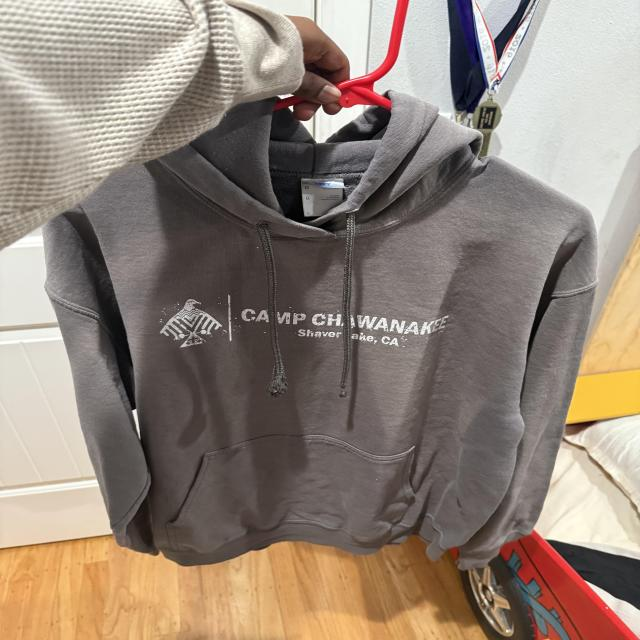back_tag: (296, 173, 349, 221)
